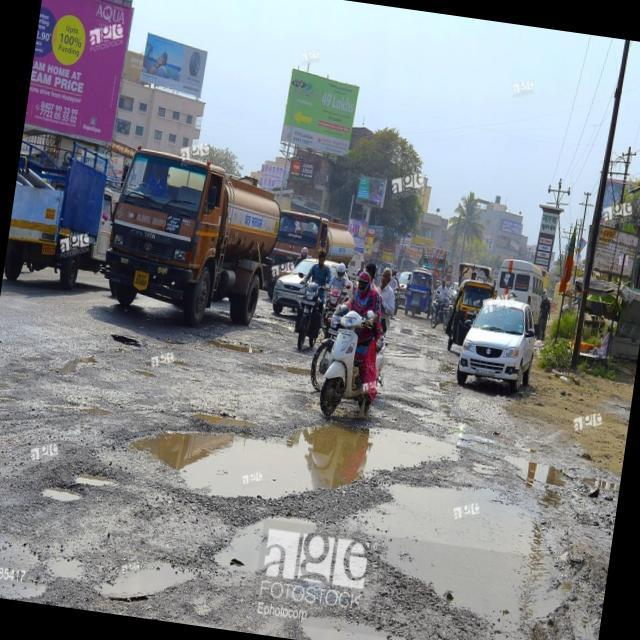Pothole: (120, 370, 474, 532), (333, 440, 601, 640), (208, 488, 392, 610), (96, 528, 216, 620), (277, 590, 456, 640), (47, 342, 112, 393), (29, 472, 94, 512), (202, 336, 265, 364), (108, 326, 156, 362), (78, 464, 126, 494), (162, 352, 214, 374), (82, 404, 119, 430)
